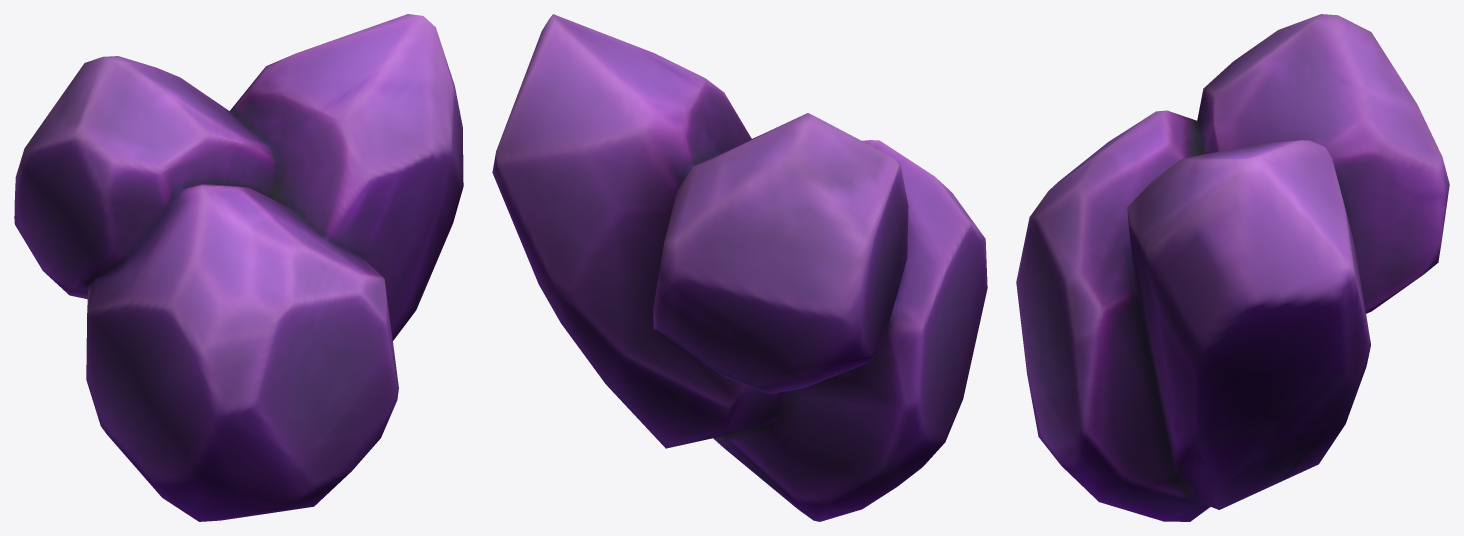
Rendered from SM_Gem_Amethyst_003.fbx.
The picture shows the model from 3 angles, left to right: view 1: azimuth 30°, elevation 25°; view 2: azimuth 150°, elevation 25°; view 3: azimuth 270°, elevation 25°; orthographic projection. The views are drawn at different scales.
Visible parts, largest first — view 1: SM_Gem_Amethyst_003; view 2: SM_Gem_Amethyst_003; view 3: SM_Gem_Amethyst_003.
Part boxes in pixels (x1,y1,x2,y2): SM_Gem_Amethyst_003: (14,14,463,521); SM_Gem_Amethyst_003: (492,14,987,521); SM_Gem_Amethyst_003: (1016,14,1449,521).
Size of the model in its own units: 26.58 by 28.79 by 23.86.
